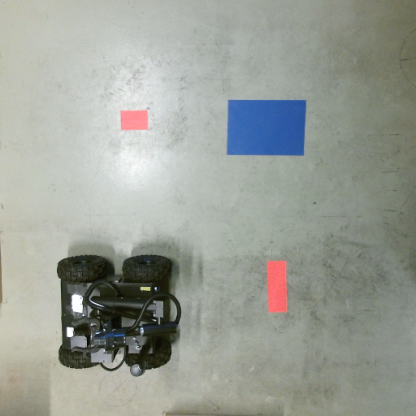Blue: (227, 99, 306, 157)
Jaguar: (54, 255, 183, 380)
Red: (265, 259, 289, 313), (119, 109, 149, 131)
